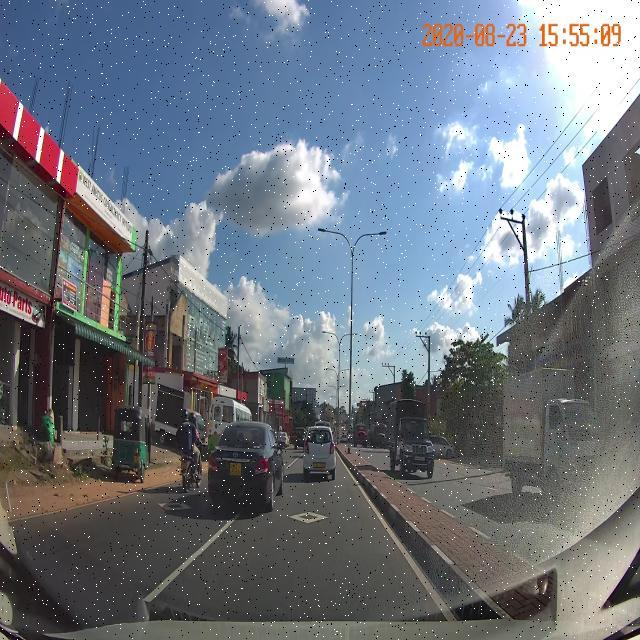diamond: (216, 509, 392, 530)
